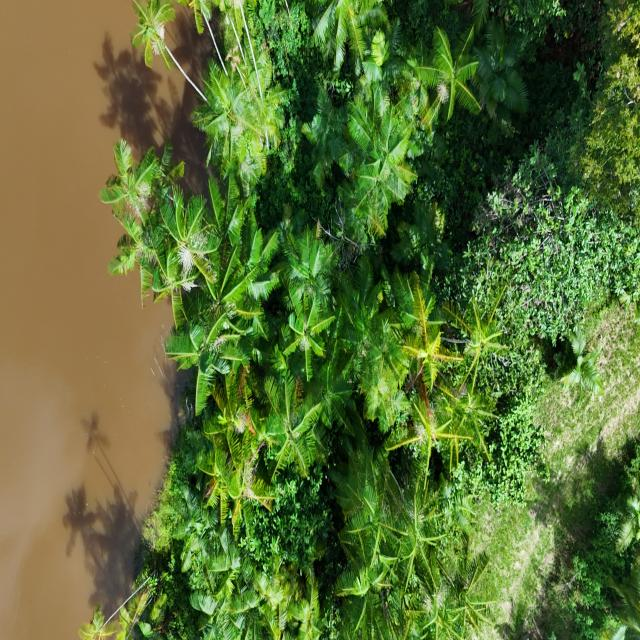vegetation: (82, 1, 637, 638)
